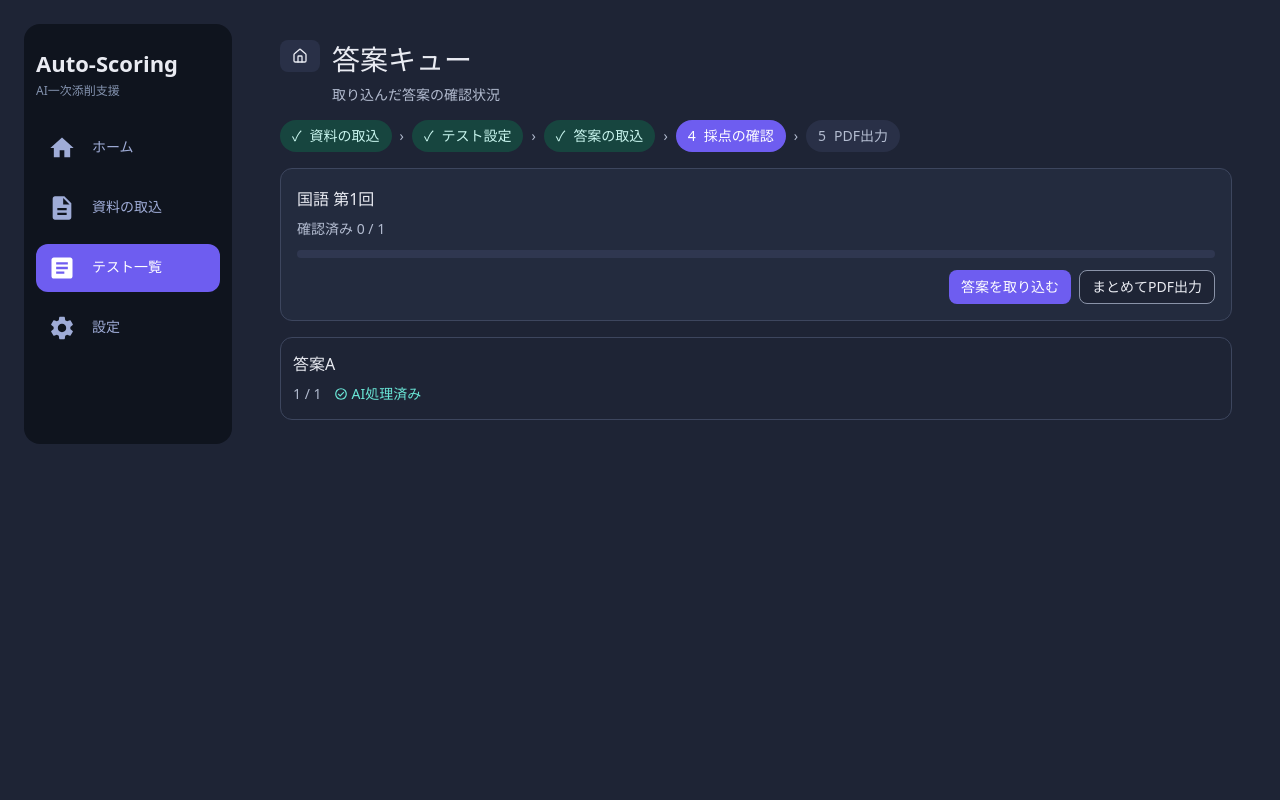
Test: SubmissionQueuePage (Issue #113 / Issue #242 / INV-021, 140..146, 158, 159) › 答案があるときも、このテストを宛先にした取込を開ける (Issue #414)
This screenshot has width=1280, height=800.
Expected: the button with test id "queue-row-s1" is shown, [293, 353, 421, 403]
What coordinates should you click on to do the following:
click the button with test id "queue-add-answers"
I would click on:
 (1010, 287)
Its box is [949, 270, 1071, 304].
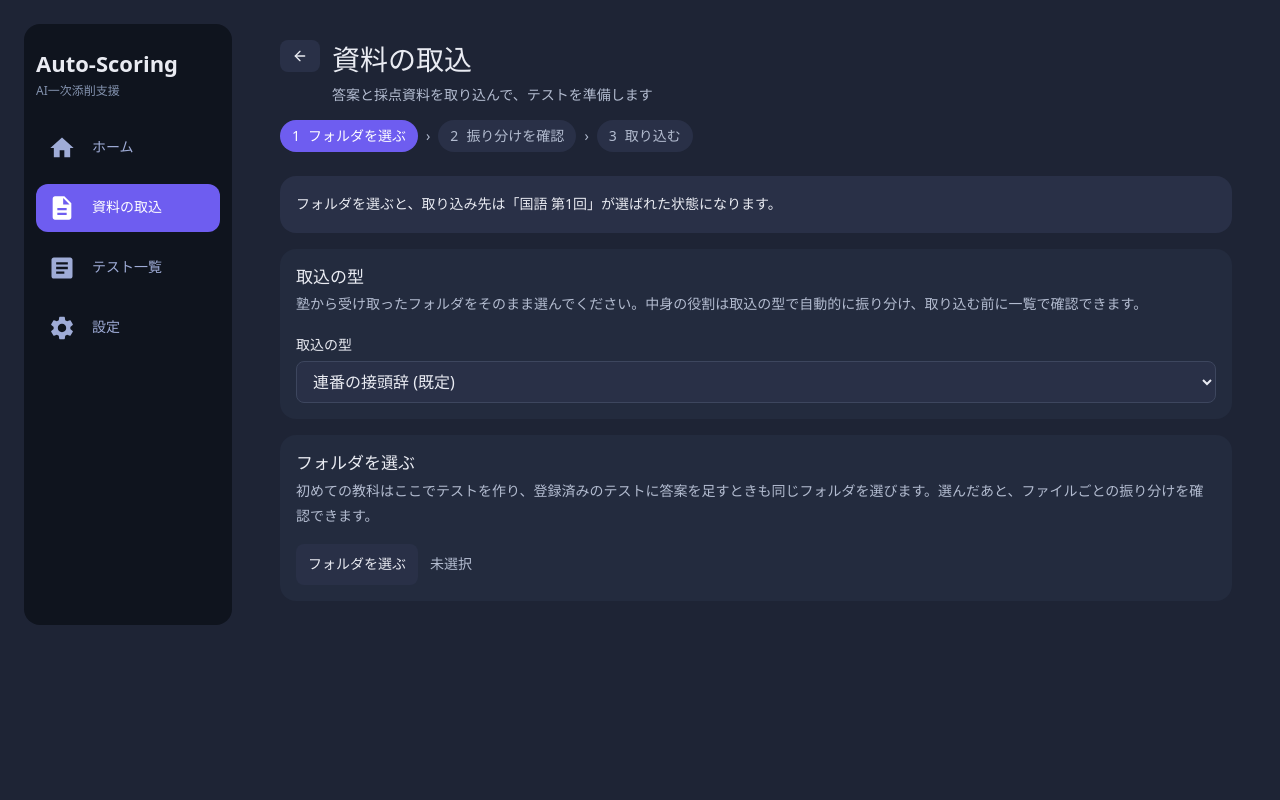
Expected: the element with test id "intake-target-summary" is shown, [280, 176, 1232, 233]
Expected: the element with test id "intake-target-summary" shows "国語 第1回", [520, 194, 587, 213]
